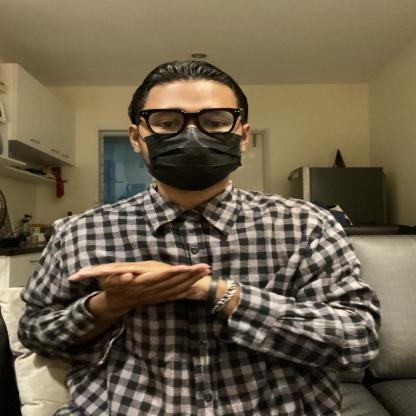Love: (28, 228, 314, 336)
